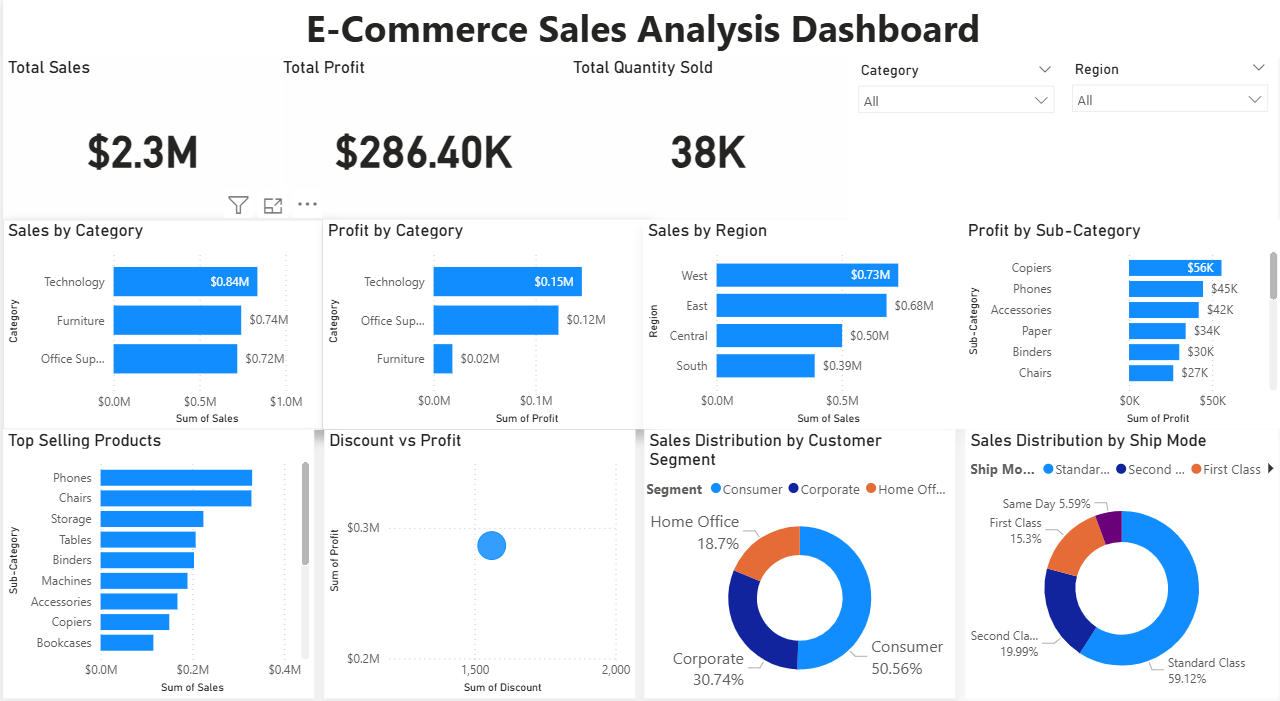

What the dashboard file says about the page in this screenshot:
{"tool":"powerbi","page":{"name":"Page 1","canvas":[1280,720],"ordinal":0},"visuals":[{"type":"shape","box":[0,0,1280.3,60.4],"z":0},{"type":"card","title":"Total Sales","fields":{"Values":["Sum(cleaned_superstore_data.Sales)"]},"box":[0,60.4,279.9,161.9],"z":1000},{"type":"card","title":"Total Profit","fields":{"Values":["Sum(cleaned_superstore_data.Profit)"]},"box":[274.4,60.4,290.9,161.9],"z":2000},{"type":"card","title":"Total Quantity Sold","fields":{"Values":["Sum(cleaned_superstore_data.Quantity)"]},"box":[565.4,60.4,279.9,161.9],"z":3000},{"type":"clusteredBarChart","title":"Sales by Category","fields":{"Category":["cleaned_superstore_data.Category"],"Y":["Sum(cleaned_superstore_data.Sales)"]},"box":[0,222.3,320,210],"z":4000},{"type":"clusteredBarChart","title":"Profit by Category","fields":{"Category":["cleaned_superstore_data.Category"],"Y":["Sum(cleaned_superstore_data.Profit)"]},"box":[320.4,222.3,319.7,209.9],"z":5000},{"type":"clusteredBarChart","title":"Sales by Region","fields":{"Category":["cleaned_superstore_data.Region"],"Y":["Sum(cleaned_superstore_data.Sales)"]},"box":[640.5,222.3,319.7,209.9],"z":6000},{"type":"donutChart","title":"Sales Distribution by Customer Segment","fields":{"Category":["cleaned_superstore_data.Segment"],"Y":["Sum(cleaned_superstore_data.Sales)"]},"box":[641.3,432.2,311.5,269],"z":7000},{"type":"clusteredBarChart","title":"Top Selling Products","fields":{"Category":["cleaned_superstore_data.Sub-Category"],"Y":["Sum(cleaned_superstore_data.Sales)"]},"box":[0,432.2,311.5,269],"z":8000},{"type":"scatterChart","title":"Discount vs Profit","fields":{"X":["Sum(cleaned_superstore_data.Discount)"],"Y":["Sum(cleaned_superstore_data.Profit)"],"Size":["Sum(cleaned_superstore_data.Sales)"]},"box":[320.6,432.2,311.5,269],"z":9000},{"type":"textbox","box":[0,0,1280.3,60.4],"z":10000},{"type":"slicer","fields":{"Values":["cleaned_superstore_data.Category"]},"box":[845.3,60.4,216,165],"z":11000},{"type":"slicer","fields":{"Values":["cleaned_superstore_data.Region"]},"box":[1059.4,59,216,164.7],"z":12000},{"type":"clusteredBarChart","title":"Profit by Sub-Category","fields":{"Category":["cleaned_superstore_data.Sub-Category"],"Y":["Sum(cleaned_superstore_data.Profit)"]},"box":[960.3,222.3,319.7,209.9],"z":13000},{"type":"donutChart","title":"Sales Distribution by Ship Mode","fields":{"Category":["cleaned_superstore_data.Ship Mode"],"Y":["Sum(cleaned_superstore_data.Sales)"]},"box":[961.9,432.2,312.9,269],"z":14000}]}

Visuals, with their boxes in screenshot pixels (x1, y1, x2, y2), scaled from the page's 1280x720 canvas onto the 1280x701 screenshot:
shape: <box>0,0,1279,59</box>
"Total Sales" card: <box>0,59,280,216</box>
"Total Profit" card: <box>274,59,565,216</box>
"Total Quantity Sold" card: <box>565,59,845,216</box>
"Sales by Category" clusteredBarChart: <box>0,216,320,421</box>
"Profit by Category" clusteredBarChart: <box>320,216,640,421</box>
"Sales by Region" clusteredBarChart: <box>640,216,960,421</box>
"Sales Distribution by Customer Segment" donutChart: <box>641,421,953,683</box>
"Top Selling Products" clusteredBarChart: <box>0,421,312,683</box>
"Discount vs Profit" scatterChart: <box>321,421,632,683</box>
textbox: <box>0,0,1279,59</box>
slicer - cleaned_superstore_data.Category: <box>845,59,1061,219</box>
slicer - cleaned_superstore_data.Region: <box>1059,57,1275,218</box>
"Profit by Sub-Category" clusteredBarChart: <box>960,216,1279,421</box>
"Sales Distribution by Ship Mode" donutChart: <box>962,421,1275,683</box>
